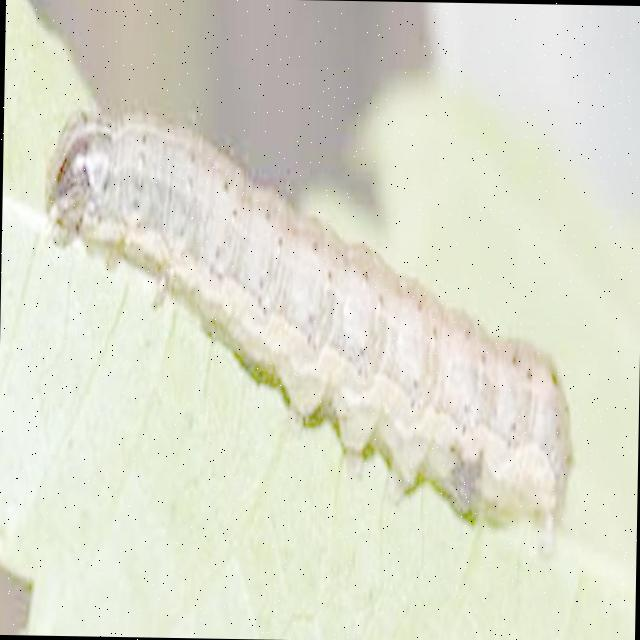worm: (37, 106, 581, 554)
